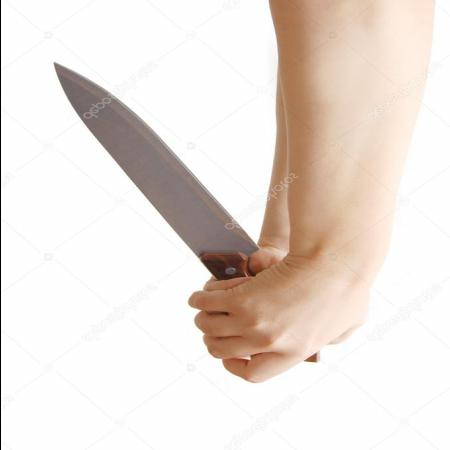long weapon: (48, 54, 294, 384)
